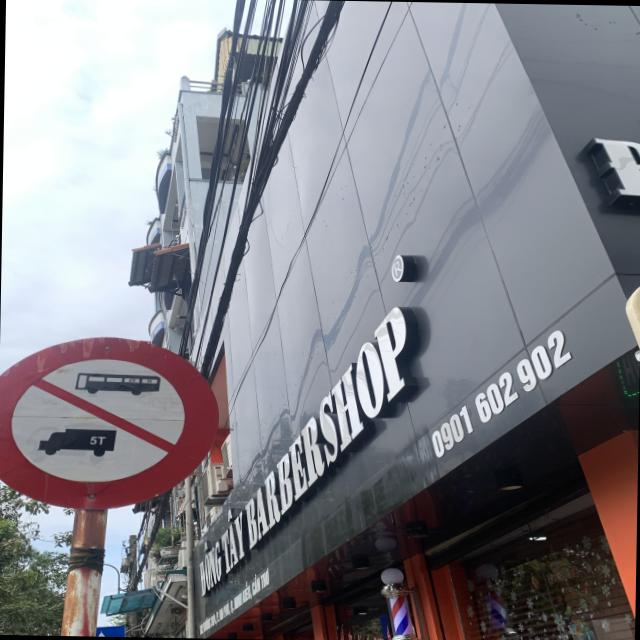Cam_XeTai_XeKhach: (0, 333, 221, 511)
